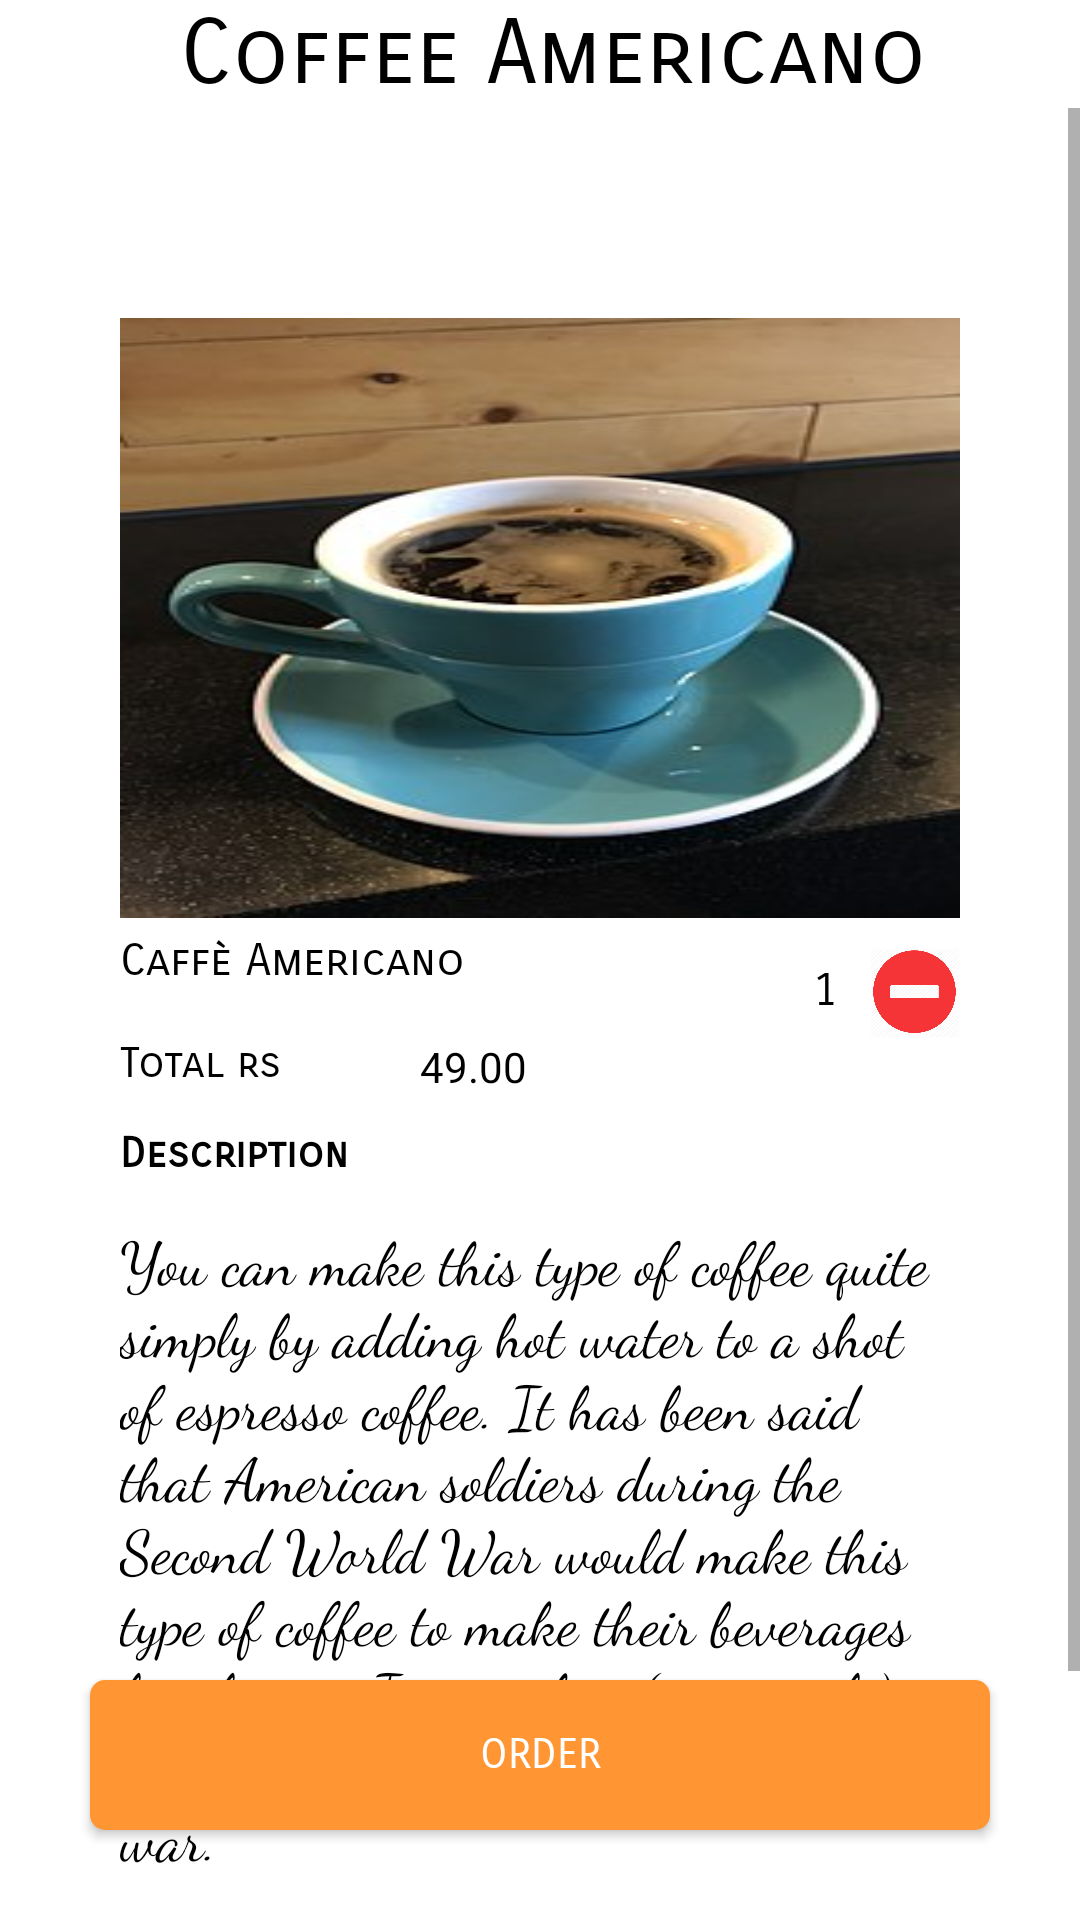

Icon bounding boxes for this 1080w x 1920h phone screenshot, format (x1, y1, x2, y2):
minus: (873, 950, 956, 1033)
